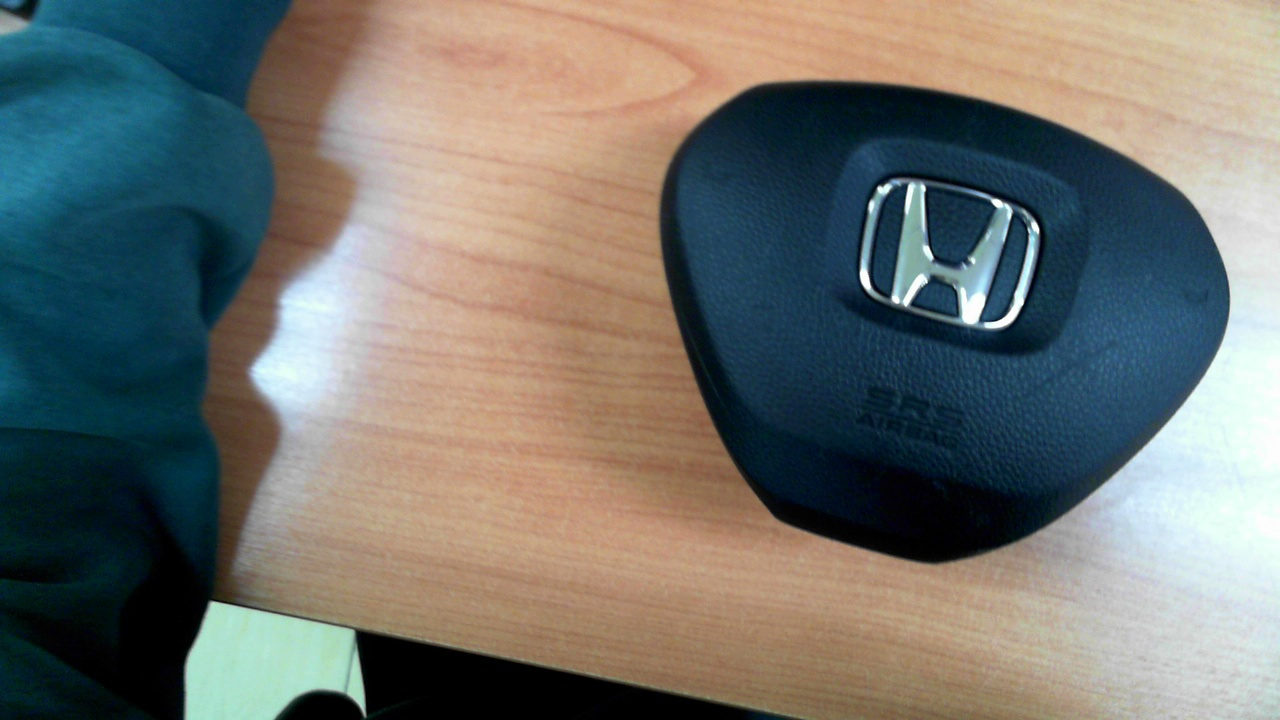Airbag: (660, 81, 1232, 564)
Honda: (858, 177, 1041, 329)
